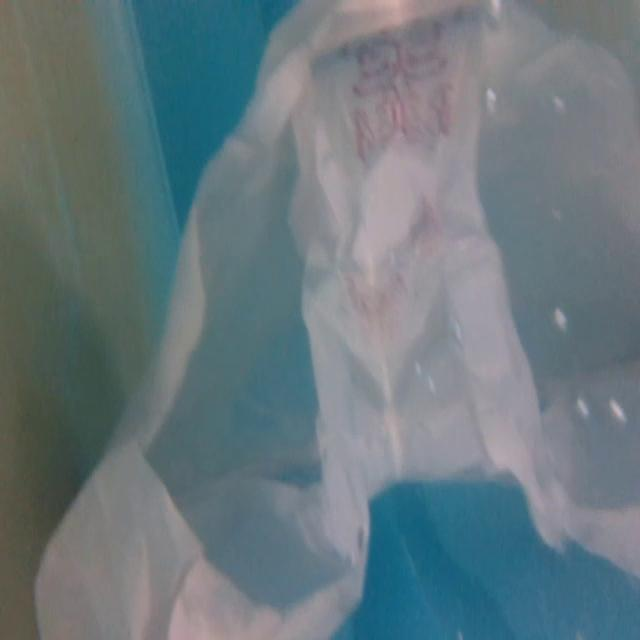plastic bags: (30, 2, 640, 640)
